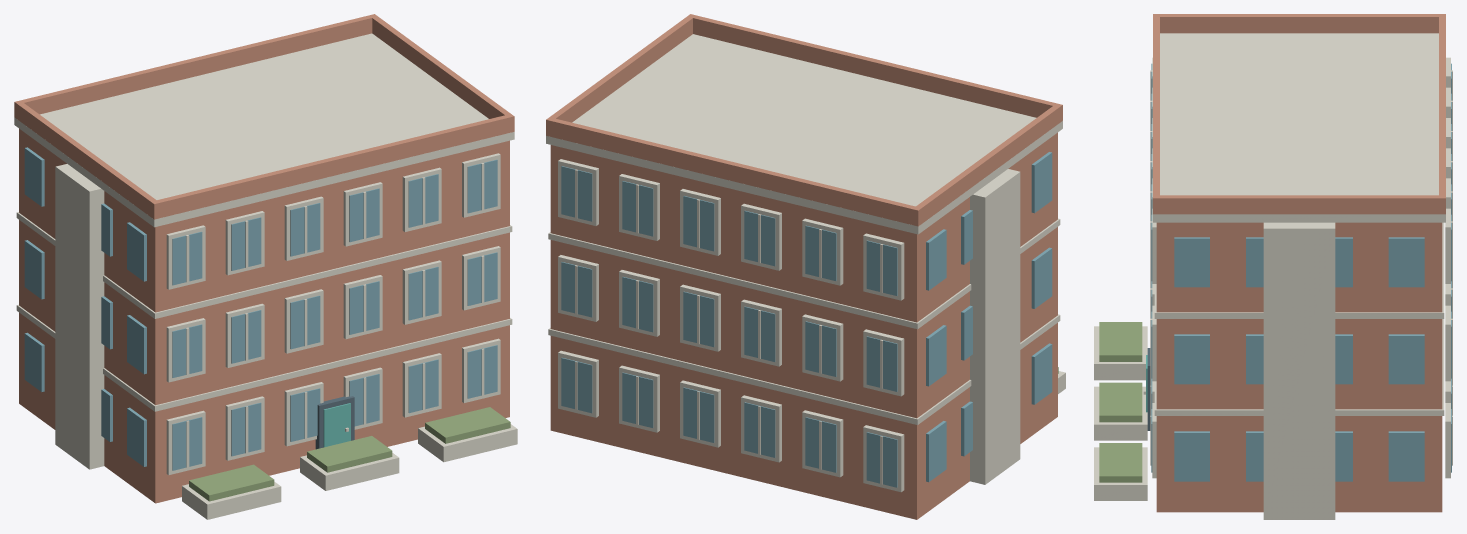
3 views of the same model, side by side, from view 1: azimuth 30°, elevation 25°; view 2: azimuth 150°, elevation 25°; view 3: azimuth 270°, elevation 25° (orthographic). The views are drawn at different scales.
Visible parts, largest first — view 1: garden-apartment-concrete, garden-apartment-brick, garden-apartment-glass, garden-apartment-green, garden-apartment-accent, garden-apartment-dark; view 2: garden-apartment-brick, garden-apartment-concrete, garden-apartment-glass; view 3: garden-apartment-concrete, garden-apartment-brick, garden-apartment-glass, garden-apartment-green.
Boxes of the visible parts, box(x1,y1,x2,y2) form: garden-apartment-concrete: box(14, 33, 517, 519); garden-apartment-brick: box(14, 14, 514, 503); garden-apartment-glass: box(24, 147, 497, 470); garden-apartment-green: box(189, 407, 510, 501); garden-apartment-accent: box(323, 403, 350, 447); garden-apartment-dark: box(315, 396, 354, 449); garden-apartment-brick: box(546, 14, 1062, 519); garden-apartment-concrete: box(546, 34, 1065, 492); garden-apartment-glass: box(561, 152, 1052, 487); garden-apartment-concrete: box(1094, 33, 1452, 519); garden-apartment-brick: box(1153, 14, 1445, 512); garden-apartment-glass: box(1151, 63, 1451, 481); garden-apartment-green: box(1099, 322, 1142, 482).
Bounding box in the file's own units: 13 × 9.75 × 10.05.
